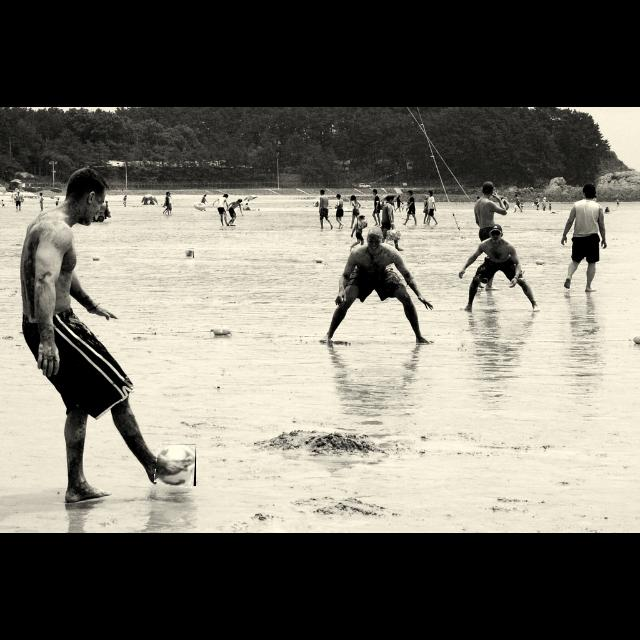Football: (156, 444, 196, 486), (184, 248, 194, 258), (357, 216, 365, 226)
